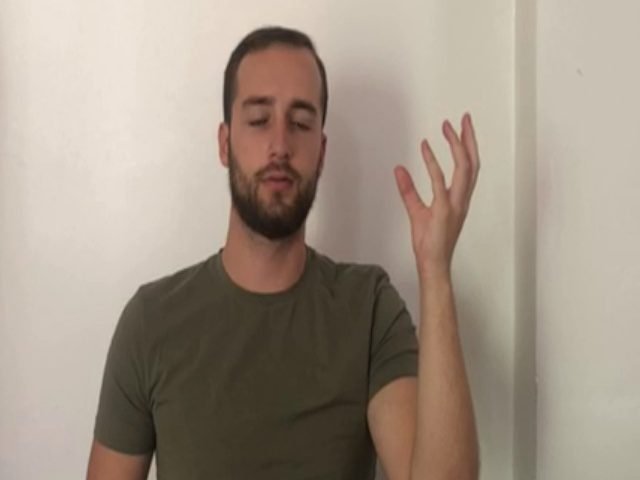Sonce: (390, 107, 489, 278)
